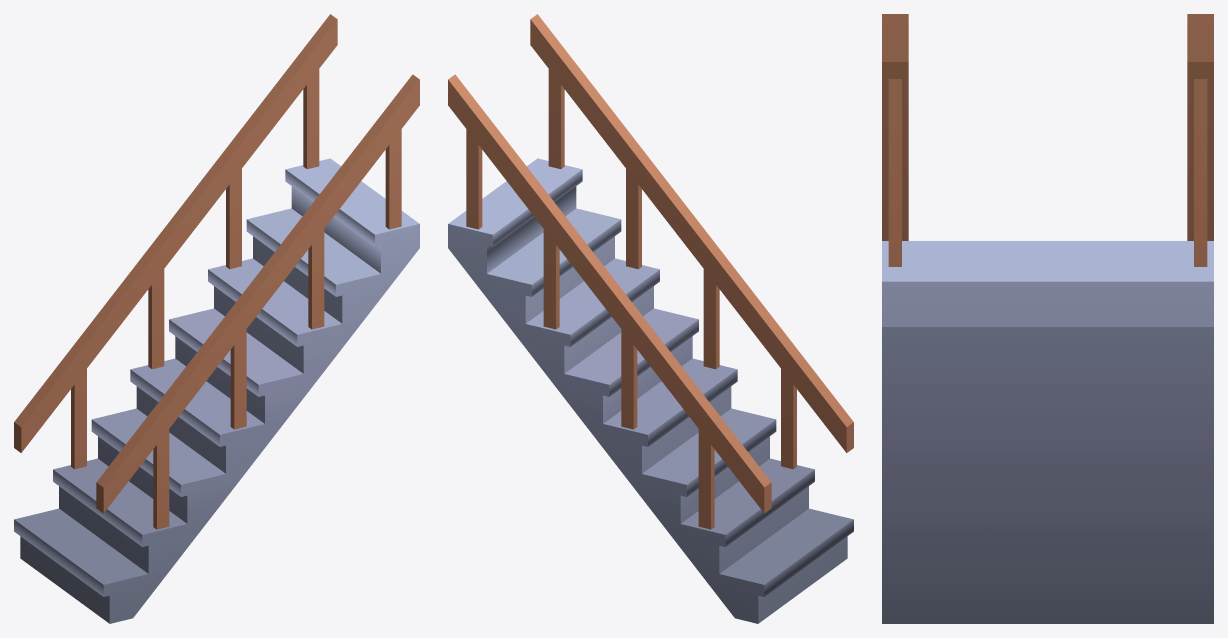
File: stairs-stone-handrail.glb
The picture shows the model from 3 angles, left to right: view 1: azimuth 30°, elevation 25°; view 2: azimuth 150°, elevation 25°; view 3: azimuth 270°, elevation 25°; orthographic projection. The views are drawn at different scales.
Parts seen in each view (by area): view 1: stairs-stone-handrail; view 2: stairs-stone-handrail; view 3: stairs-stone-handrail.
Part boxes in pixels (left/top/right/bottom): stairs-stone-handrail: left=14, top=14, right=419, bottom=623; stairs-stone-handrail: left=448, top=14, right=853, bottom=623; stairs-stone-handrail: left=882, top=14, right=1213, bottom=623.
Bounding box in the file's own units: 1.02 × 1.45 × 0.5.
Materials: 1 (1 with a texture image).
